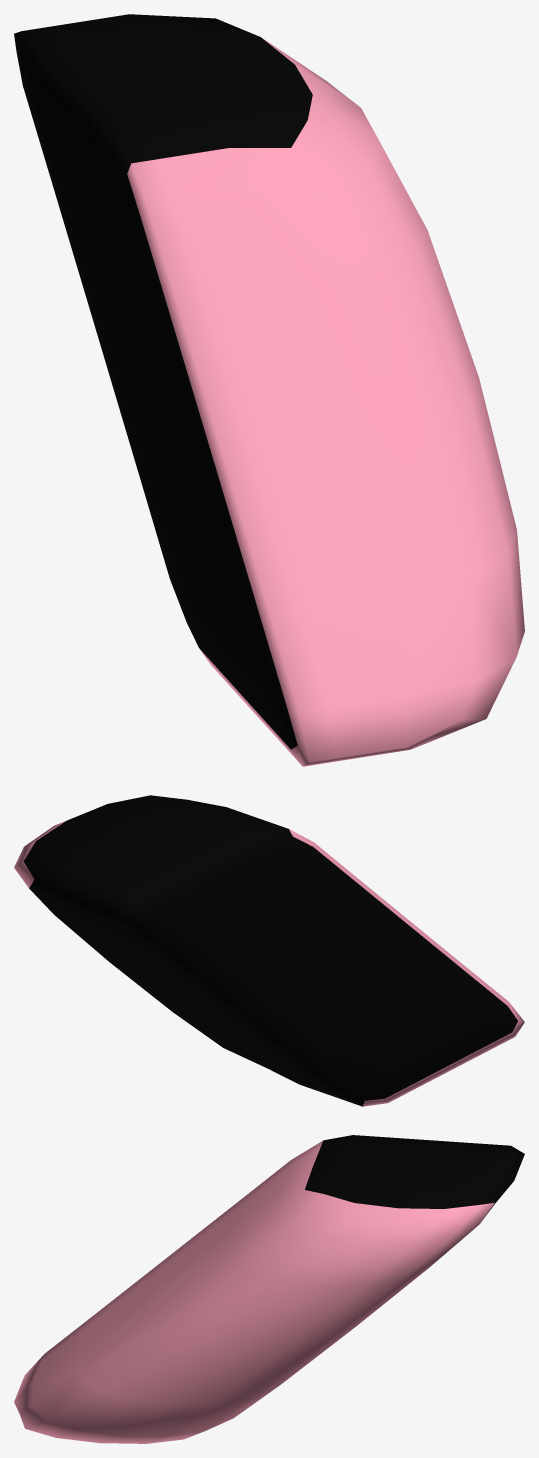
3 views of the same model, one above another, from view 1: azimuth 30°, elevation 25°; view 2: azimuth 150°, elevation 25°; view 3: azimuth 270°, elevation 25° (orthographic). The views are drawn at different scales.
Parts seen in each view (by area): view 1: Box1262; view 2: Box1262; view 3: Box1262.
Boxes of the visible parts, x1=… form: Box1262: x1=14, y1=14, x2=524, y2=766; Box1262: x1=14, y1=795, x2=524, y2=1106; Box1262: x1=14, y1=1135, x2=524, y2=1443.
Size of the model in its own units: 0.0294 by 0.0357 by 0.0616.
